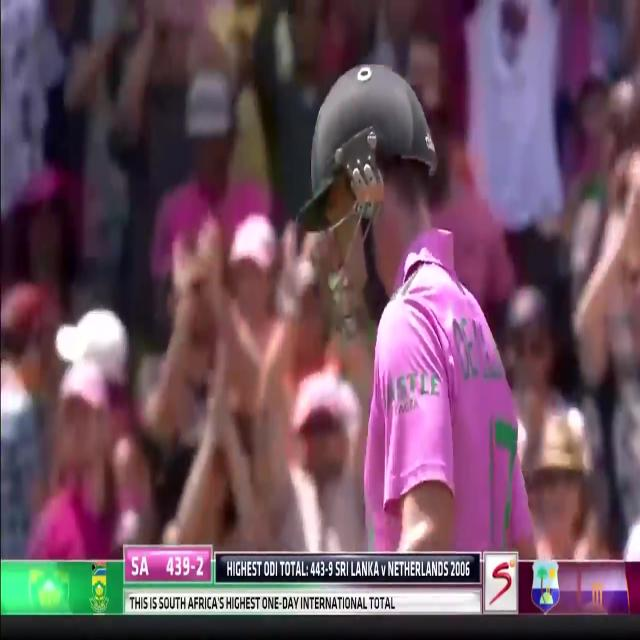Ball: (294, 53, 540, 555)
